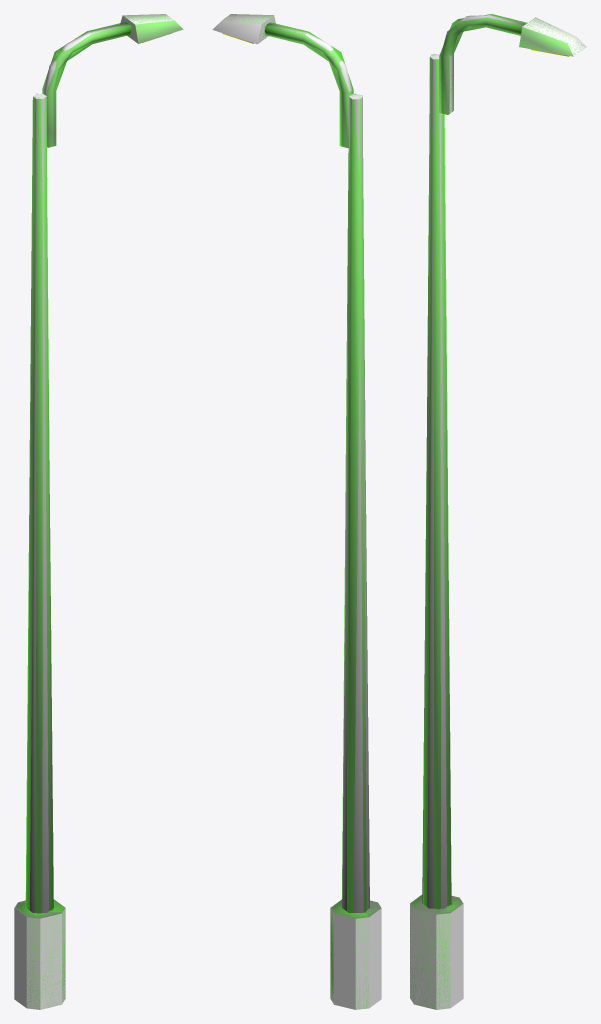
The model's file is lighting_set.fbx.
3 views of the same model, side by side, from view 1: azimuth 30°, elevation 25°; view 2: azimuth 150°, elevation 25°; view 3: azimuth 330°, elevation 25° (orthographic). The views are drawn at different scales.
Visible parts, largest first — view 1: lighting_pole_8m_neck, lighting_pole_8m_neckCOL, lighting_pole_8m_Parent, lighting_pole_8m_light, lighting_pole_8m_lightCOL, lighting_pole_8m_ParentCOL; view 2: lighting_pole_8m_neck, lighting_pole_8m_neckCOL, lighting_pole_8m_Parent, lighting_pole_8m_light, lighting_pole_8m_lightCOL, lighting_pole_8m_ParentCOL; view 3: lighting_pole_8m_neck, lighting_pole_8m_neckCOL, lighting_pole_8m_Parent, lighting_pole_8m_light, lighting_pole_8m_lightCOL, lighting_pole_8m_ParentCOL.
Part boxes in pixels (x1,y1,x2,y2): lighting_pole_8m_neck: [26, 94, 53, 912]; lighting_pole_8m_neckCOL: [25, 93, 53, 913]; lighting_pole_8m_Parent: [14, 899, 65, 1009]; lighting_pole_8m_light: [43, 14, 183, 146]; lighting_pole_8m_lightCOL: [42, 14, 183, 147]; lighting_pole_8m_ParentCOL: [15, 900, 65, 1009]; lighting_pole_8m_neck: [342, 94, 369, 912]; lighting_pole_8m_neckCOL: [342, 93, 366, 913]; lighting_pole_8m_Parent: [330, 899, 381, 1009]; lighting_pole_8m_light: [212, 14, 352, 147]; lighting_pole_8m_lightCOL: [224, 14, 353, 147]; lighting_pole_8m_ParentCOL: [330, 900, 380, 1009]; lighting_pole_8m_neck: [422, 54, 450, 908]; lighting_pole_8m_neckCOL: [423, 54, 451, 909]; lighting_pole_8m_Parent: [410, 894, 463, 1009]; lighting_pole_8m_light: [441, 15, 586, 113]; lighting_pole_8m_lightCOL: [439, 14, 581, 114]; lighting_pole_8m_ParentCOL: [410, 895, 461, 1009].
Size of the model in its own units: 1.62 by 9.44 by 0.4.
